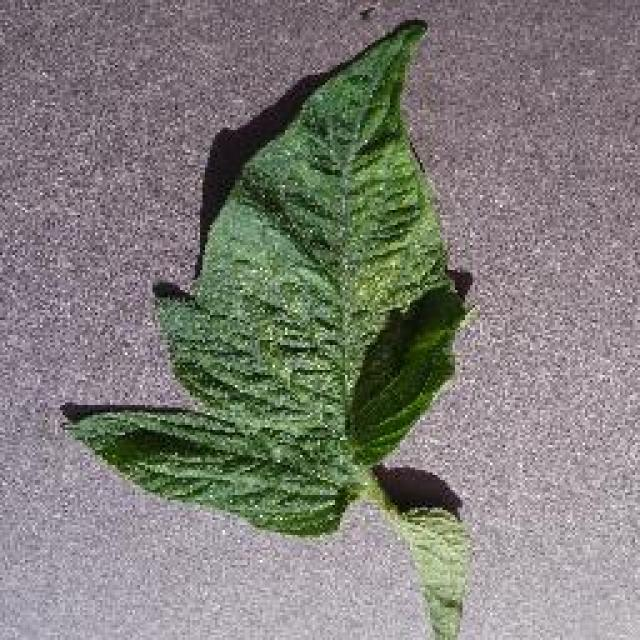Tomato spider mites leaf: (69, 18, 472, 537)
